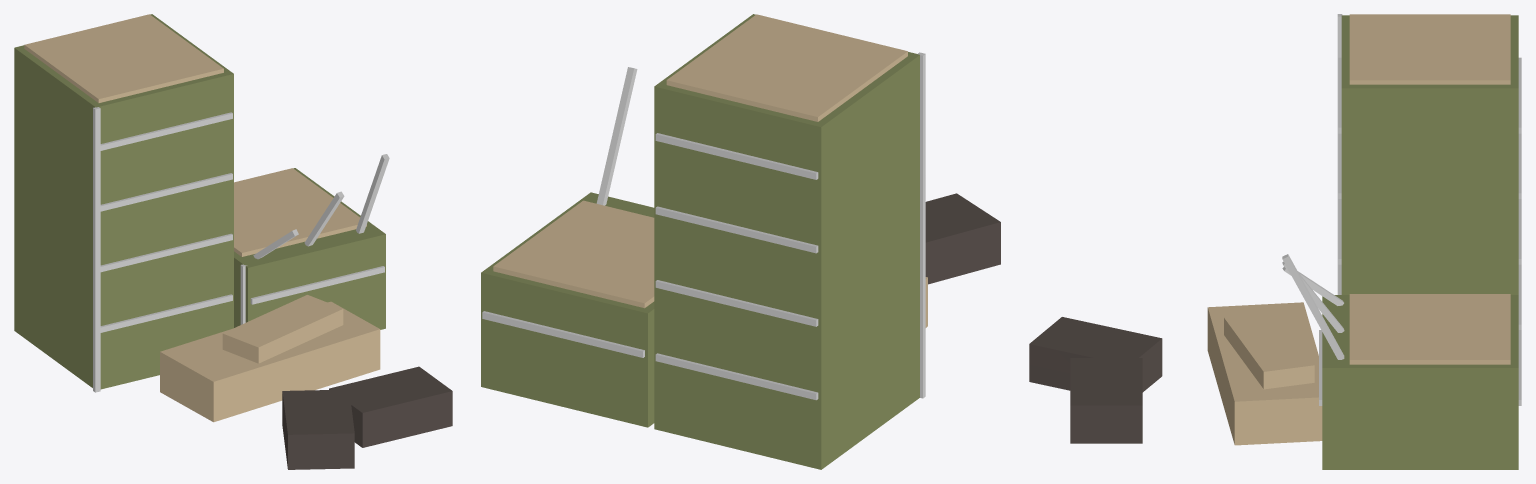
File: SM_HescoCorto2_v2_Escalonado_e1_Danado_LOD0.fbx
3 views of the same model, side by side, from view 1: azimuth 30°, elevation 25°; view 2: azimuth 150°, elevation 25°; view 3: azimuth 270°, elevation 25° (orthographic). The views are drawn at different scales.
Visible parts, largest first — view 1: SM_hesco_piezas_v69_LOD0; view 2: SM_hesco_piezas_v69_LOD0; view 3: SM_hesco_piezas_v69_LOD0.
Part boxes in pixels (x1,y1,x2,y2): SM_hesco_piezas_v69_LOD0: (14, 14, 452, 469); SM_hesco_piezas_v69_LOD0: (481, 14, 1000, 469); SM_hesco_piezas_v69_LOD0: (1029, 14, 1521, 469).
Bounding box in the file's own units: 2.2 × 2.13 × 3.06.
